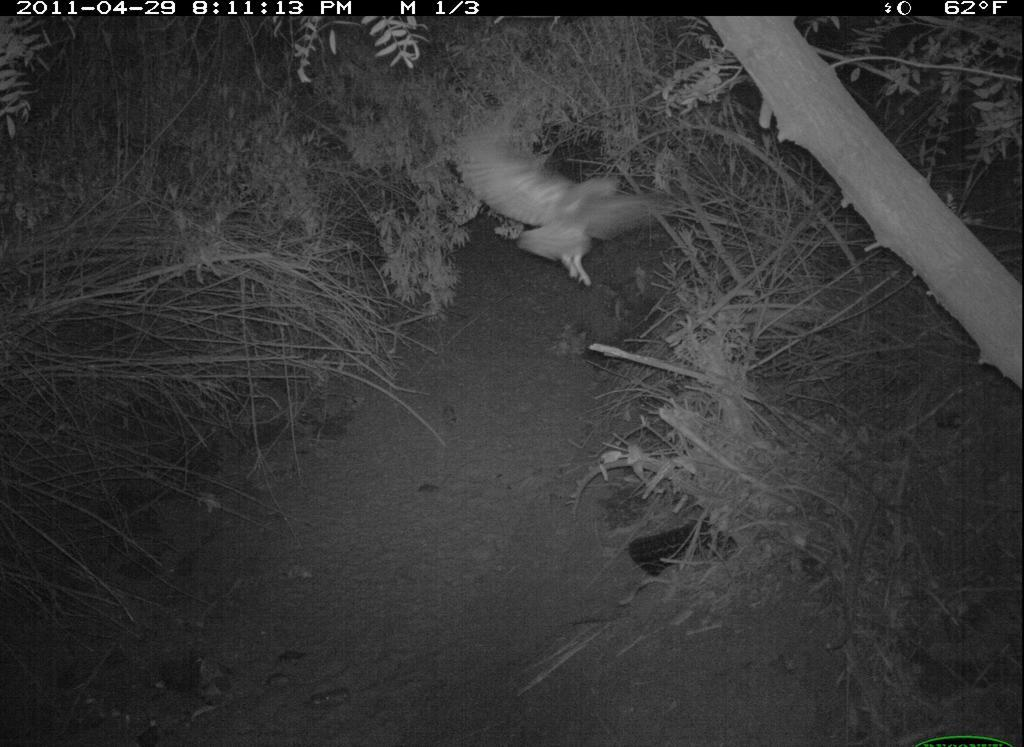bird: (447, 112, 690, 306)
